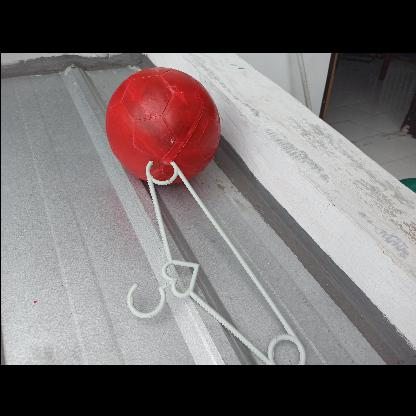red_ball: (103, 65, 219, 181)
